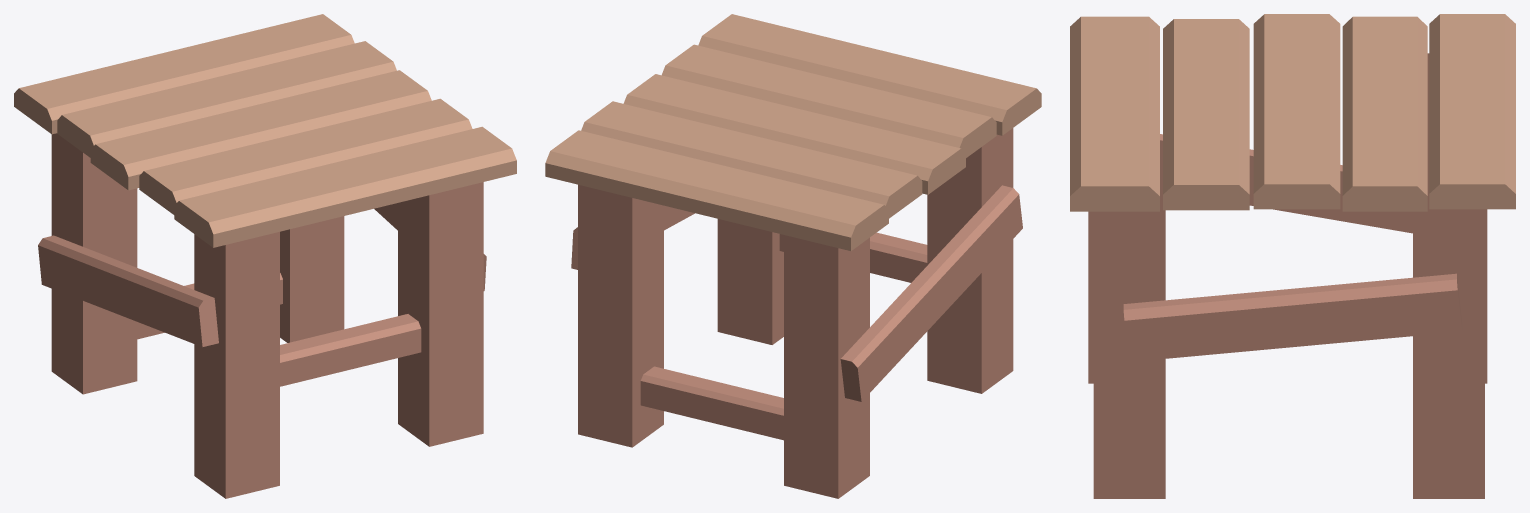
File: Bridge_02.fbx
3 views of the same model, side by side, from view 1: azimuth 30°, elevation 25°; view 2: azimuth 150°, elevation 25°; view 3: azimuth 270°, elevation 25° (orthographic). The views are drawn at different scales.
Visible parts, largest first — view 1: Bridge_02; view 2: Bridge_02; view 3: Bridge_02.
Part boxes in pixels (x1,y1,x2,y2): Bridge_02: [14, 14, 516, 498]; Bridge_02: [545, 14, 1041, 498]; Bridge_02: [1070, 14, 1515, 498].
Size of the model in its own units: 11.37 by 10 by 12.42.
